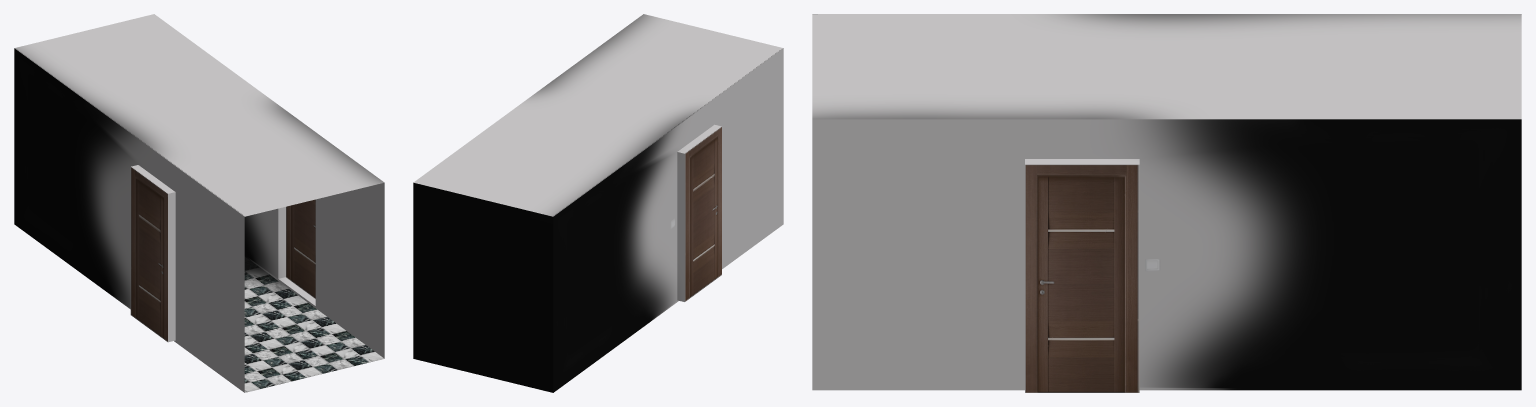
File: Coridor.fbx
The picture shows the model from 3 angles, left to right: view 1: azimuth 30°, elevation 25°; view 2: azimuth 150°, elevation 25°; view 3: azimuth 270°, elevation 25°; orthographic projection. The views are drawn at different scales.
Parts seen in each view (by area): view 1: coridor; view 2: coridor; view 3: coridor.
Part boxes in pixels (bbox=[...]): coridor: bbox=[14, 14, 384, 392]; coridor: bbox=[413, 14, 783, 392]; coridor: bbox=[812, 14, 1521, 392].
Size of the model in its own units: 11.59 by 12.58 by 29.82.
